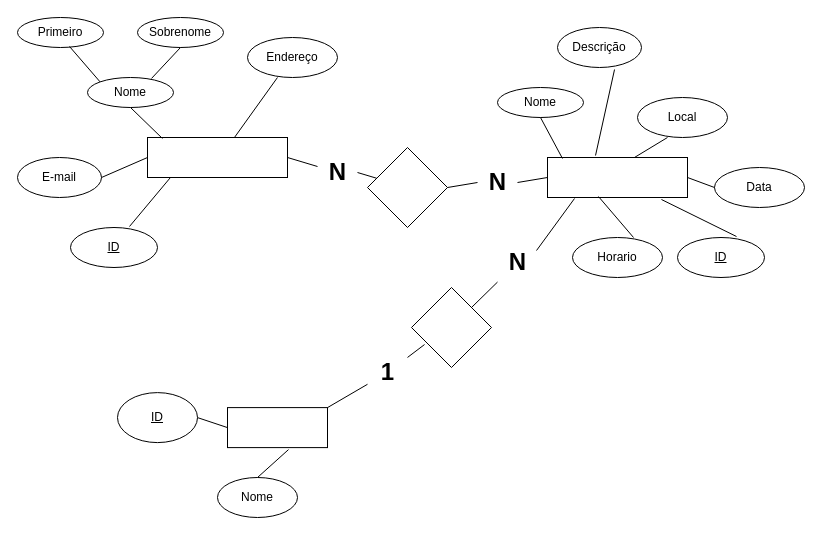
Some shapes in this 822 by 535 pixel diagram are drawn without their labels. The centre of each missing label's shape, as x and y in pixels:
"Esporte" goes at point (277, 427).
"Grupo" goes at point (617, 177).
"Possui" goes at point (407, 187).
"Tem" goes at point (451, 327).
"Usuário" goes at point (217, 157).
